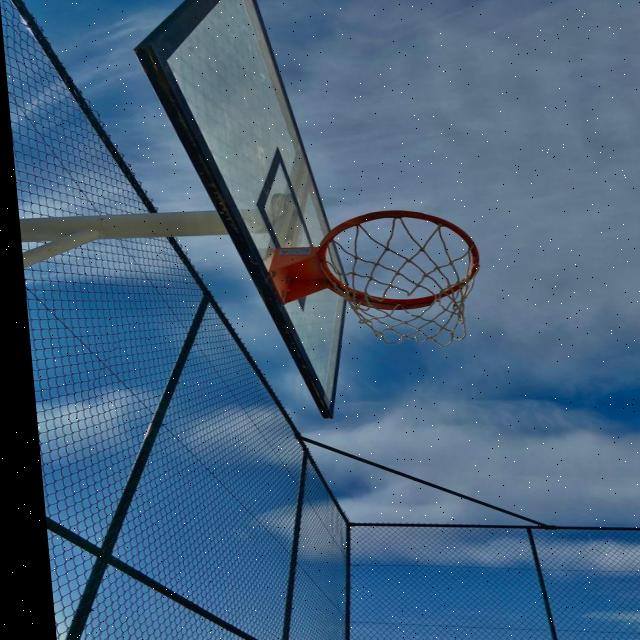hoop: (286, 214, 499, 365)
